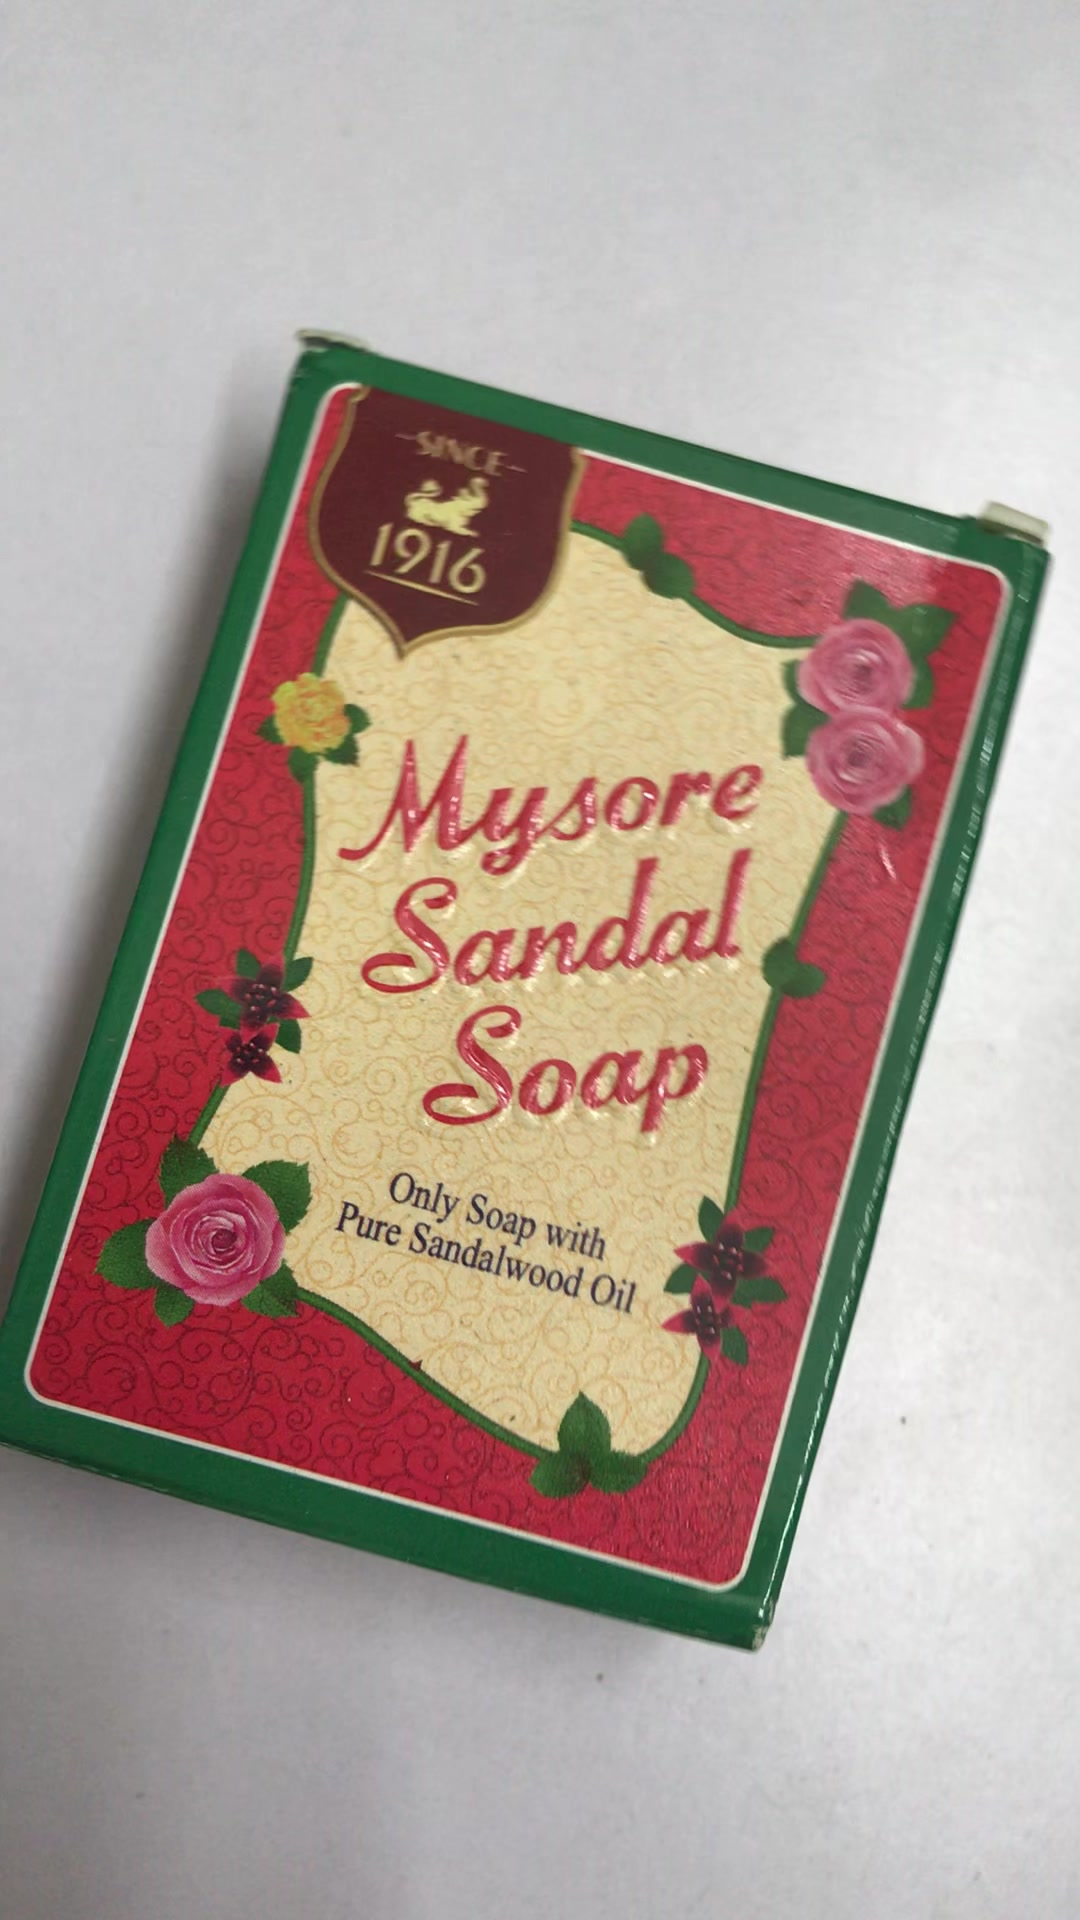mysore sandal soap: (7, 334, 1040, 1654)
